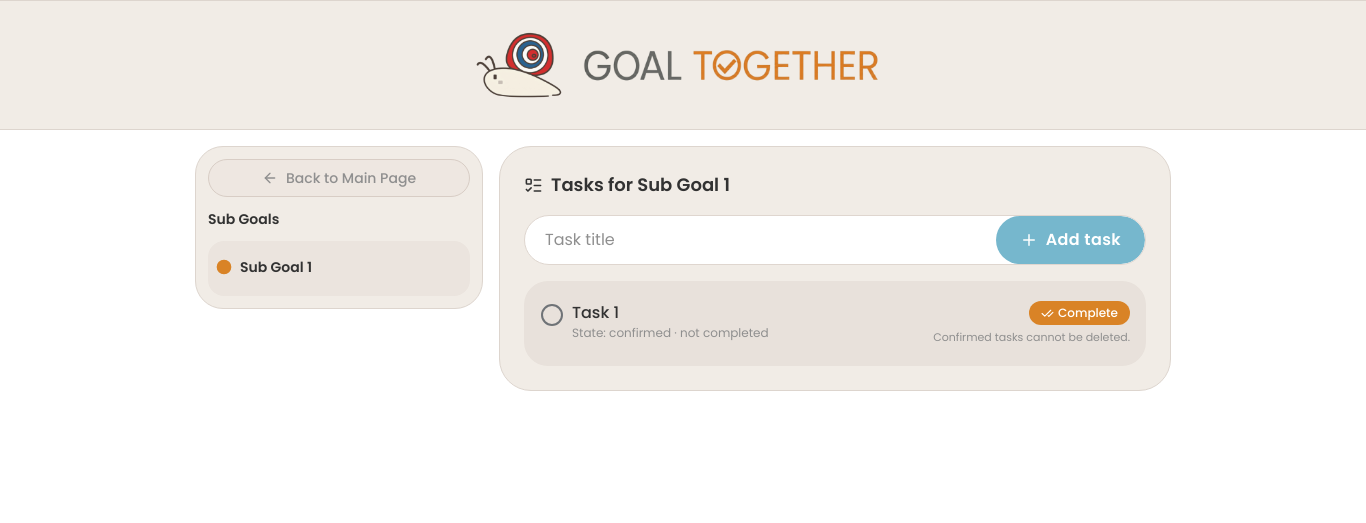
Test: reward modal trigger › shows modal after rewarded completion
Expected: the heading "Tasks for Sub Goal 1" is shown, [524,171,730,199]
Click the button "Complete" at (1080, 313), box [1029,301,1130,325]
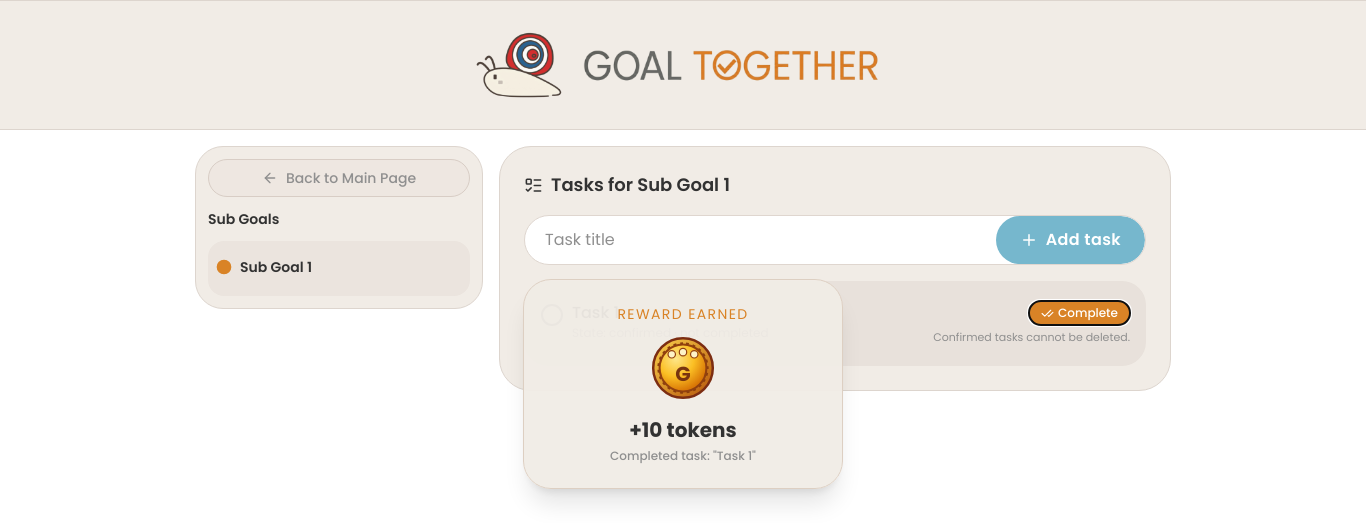
Now the message "Reward Earned G +10 tokens Completed task: \"Task 1\"" is shown, box [523,279,843,489]
Now the text "+10 tokens" is shown, box [629,416,737,444]
Now the text "Completed task: \"Task 1\"" is shown, box [610,447,756,464]
